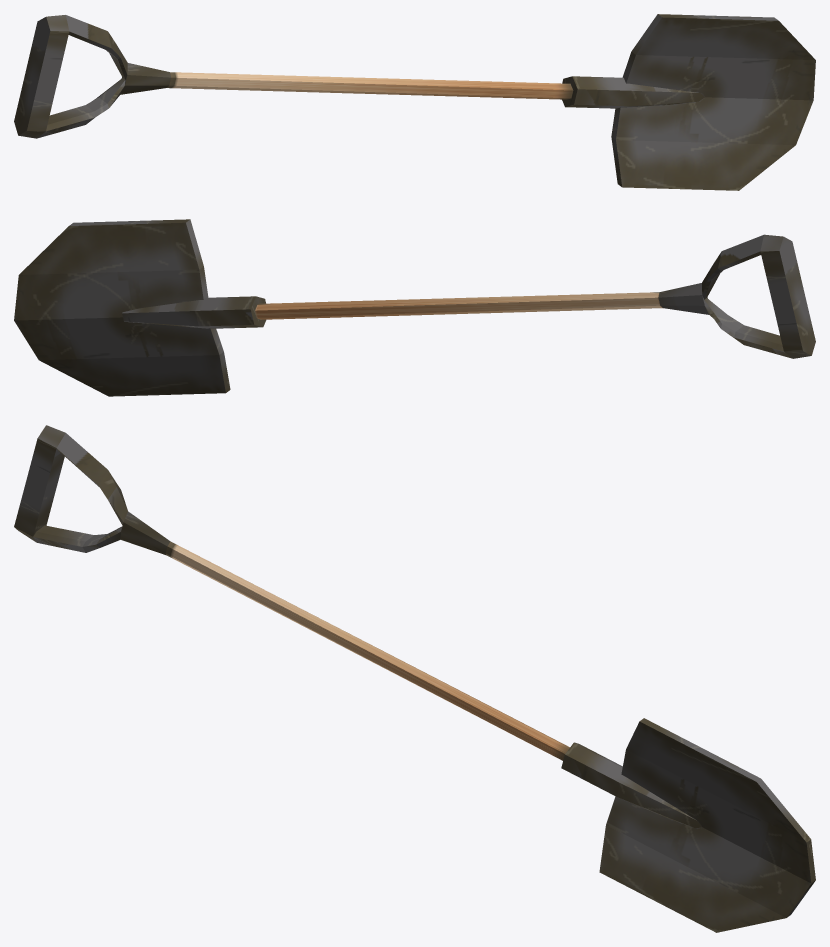
3 renders of one model, top to bottom at view 1: azimuth 30°, elevation 25°; view 2: azimuth 150°, elevation 25°; view 3: azimuth 330°, elevation 25°, orthographic.
Parts seen in each view (by area): view 1: Shovel; view 2: Shovel; view 3: Shovel.
Part boxes in pixels (x1,y1,x2,y2): Shovel: [14, 14, 815, 190]; Shovel: [14, 219, 815, 396]; Shovel: [14, 425, 815, 932].
Size of the model in its own units: 0.8572 by 0.3422 by 0.0364.
Materials: 1 (1 with a texture image).
